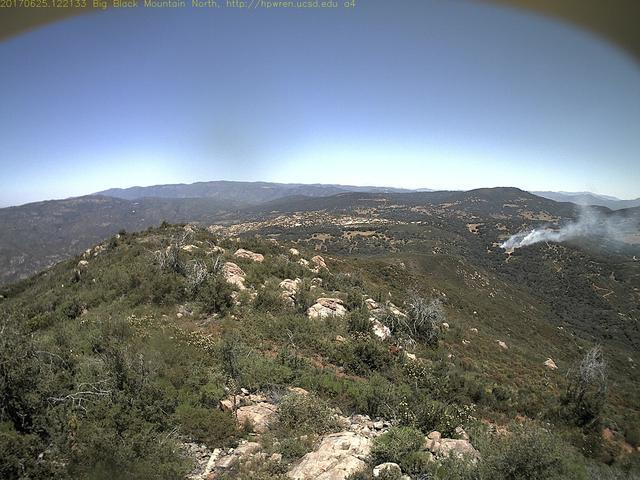smoke: (494, 194, 638, 254)
